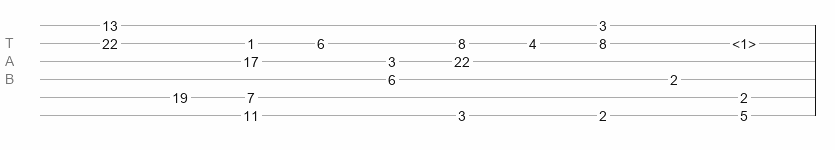1: (247, 36, 255, 46)
11: (243, 108, 259, 118)
13: (102, 18, 118, 28)
17: (243, 54, 259, 64)
19: (172, 90, 188, 100)
2: (599, 108, 607, 118), (670, 72, 678, 82), (740, 90, 748, 100)
22: (102, 36, 118, 46), (454, 54, 470, 64)
3: (388, 54, 396, 64), (458, 108, 466, 118), (599, 18, 607, 28)
4: (529, 36, 537, 46)
5: (740, 108, 748, 118)
6: (317, 36, 325, 46), (388, 72, 396, 82)
7: (247, 90, 255, 100)
8: (458, 36, 466, 46), (599, 36, 607, 46)
harmonic: (732, 36, 756, 46)
